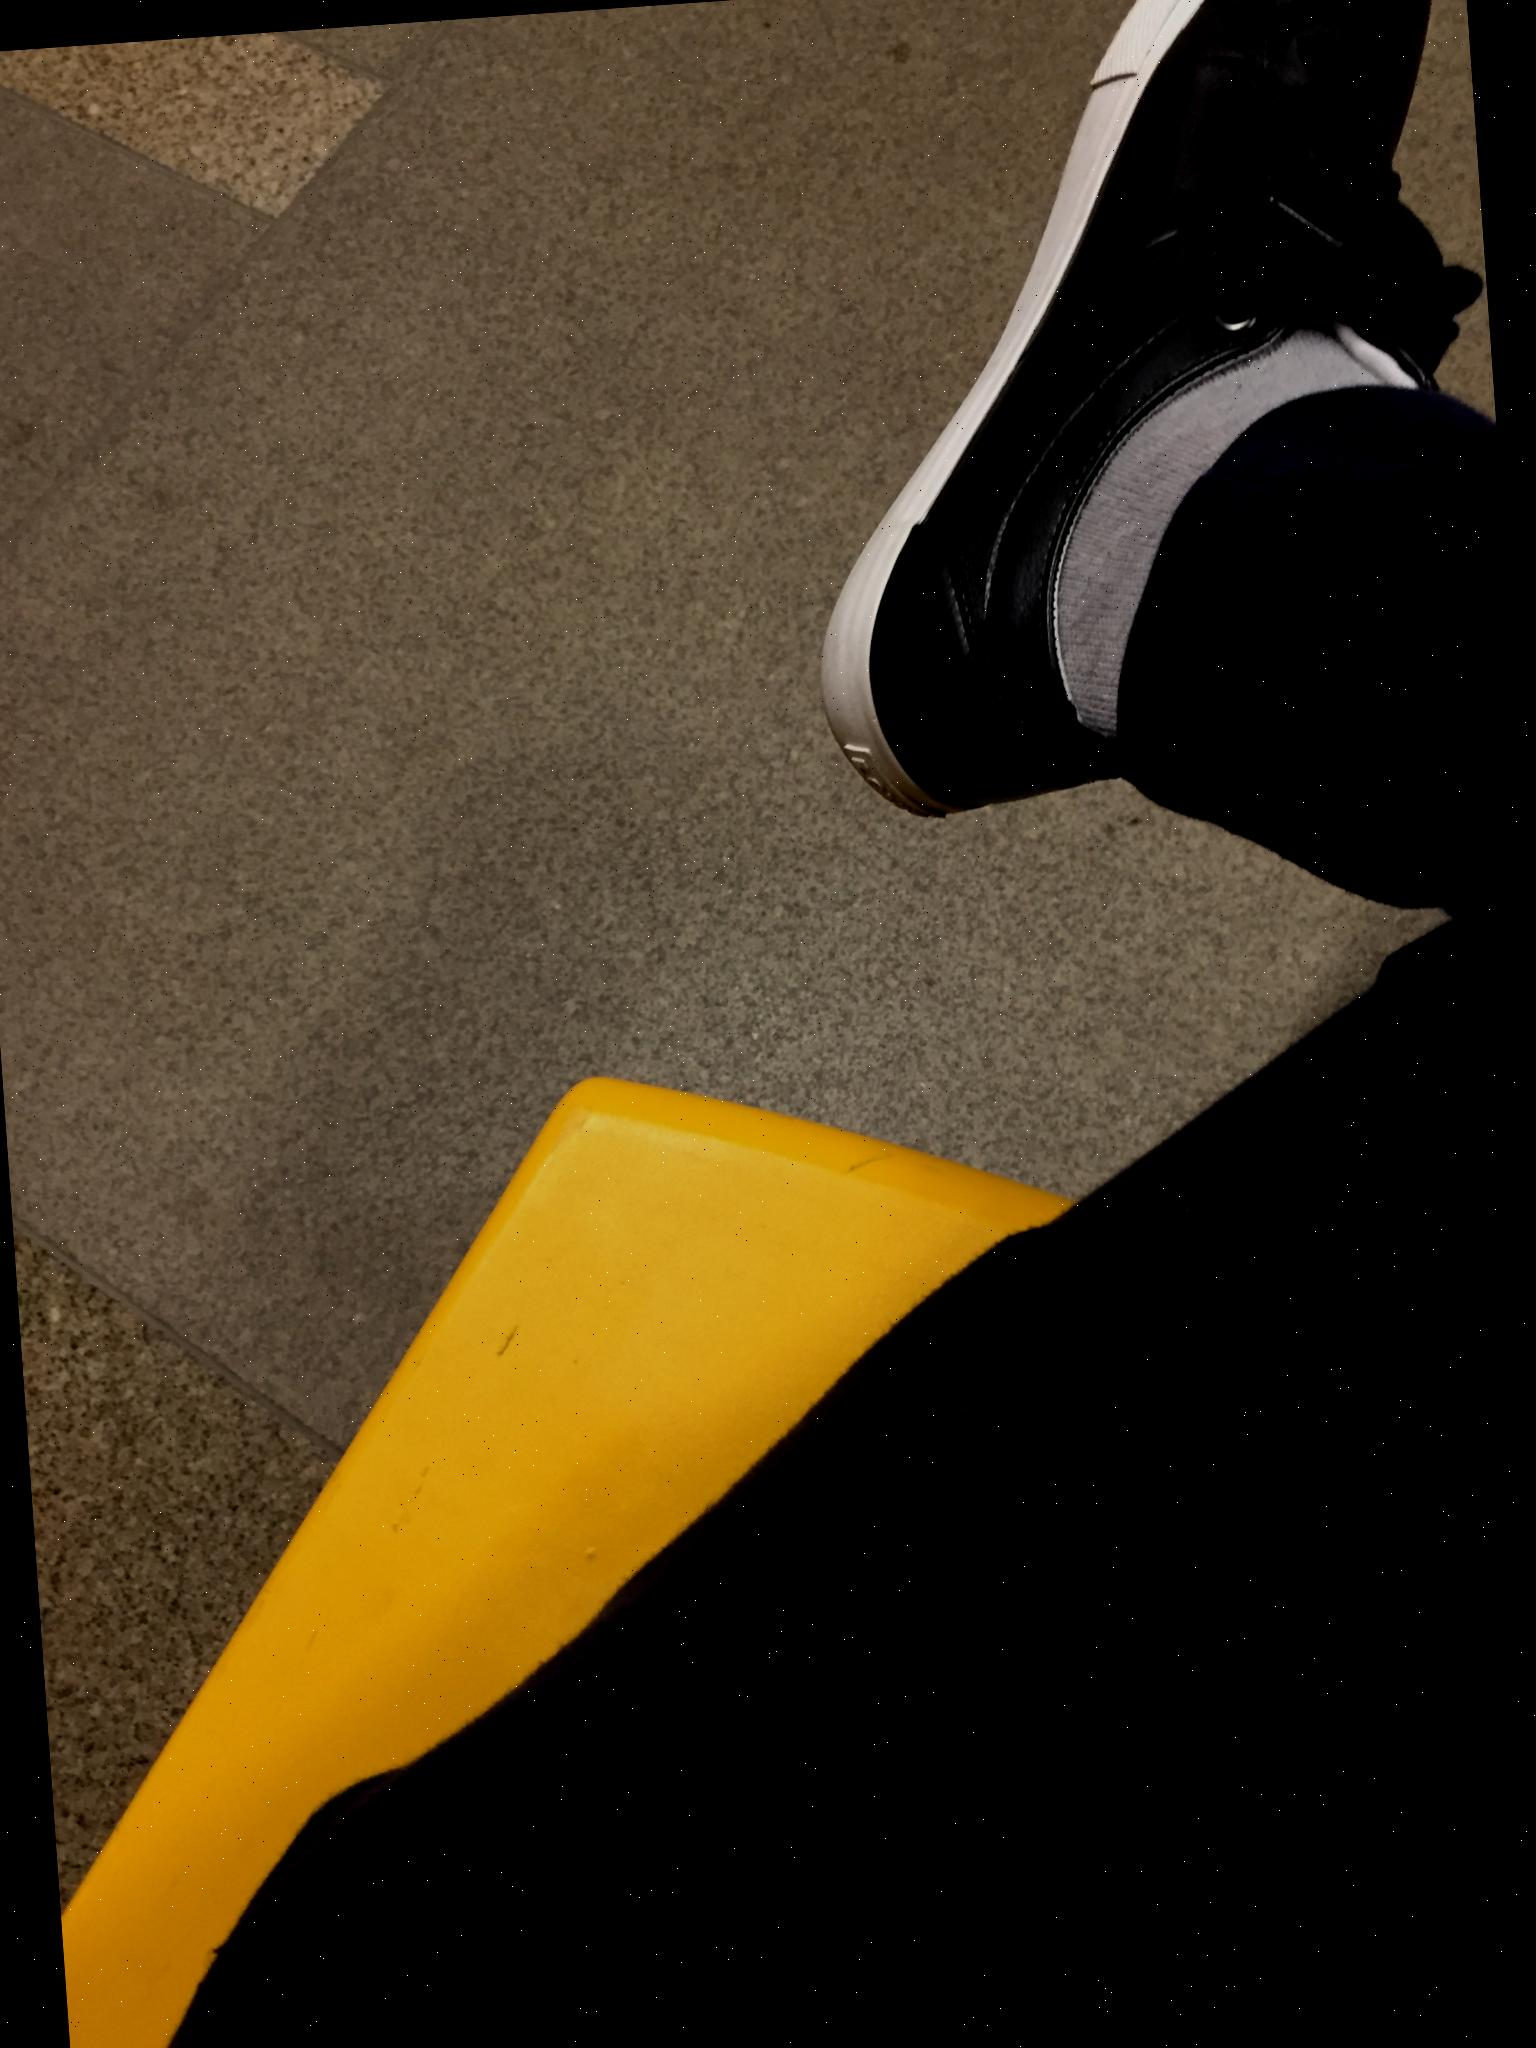chair: (2, 982, 1536, 2048)
